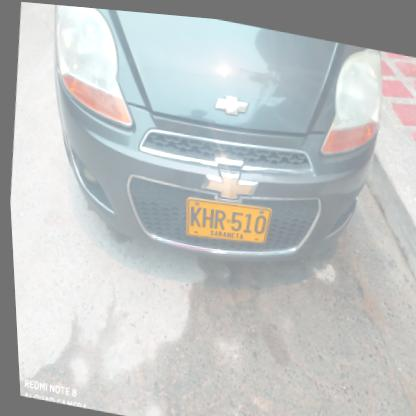placa: (178, 189, 273, 250)
